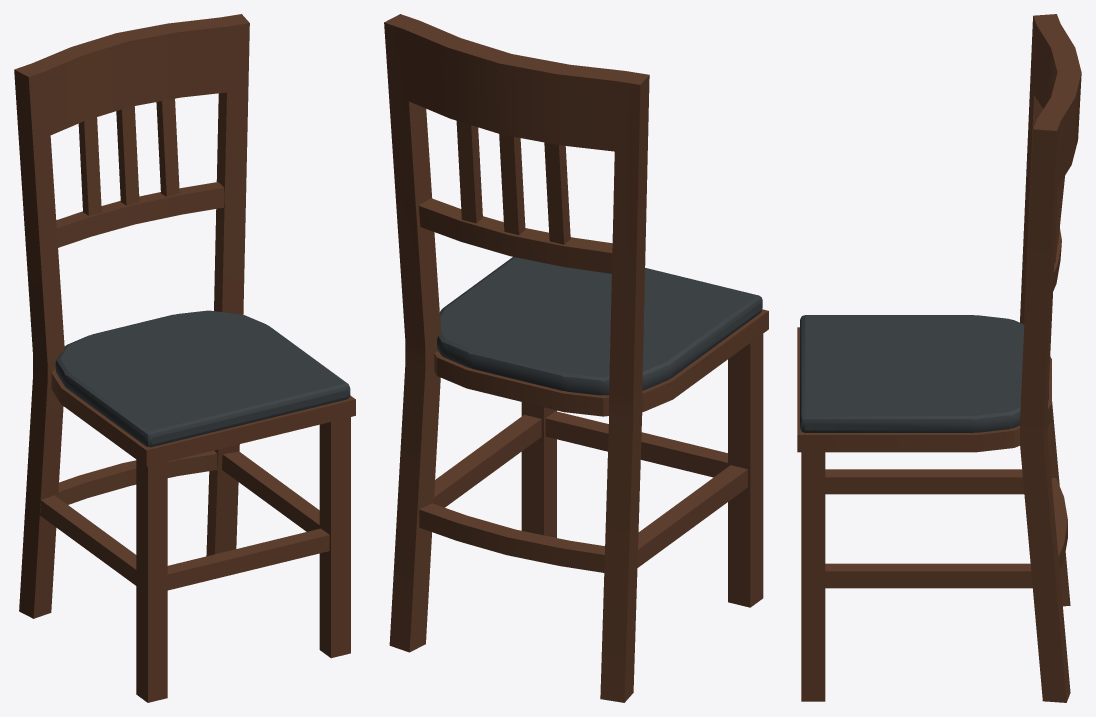
The model's file is Chair_02.fbx.
The picture shows the model from 3 angles, left to right: view 1: azimuth 30°, elevation 25°; view 2: azimuth 150°, elevation 25°; view 3: azimuth 270°, elevation 25°; orthographic projection. The views are drawn at different scales.
Visible parts, largest first — view 1: Chair_02; view 2: Chair_02; view 3: Chair_02.
Boxes of the visible parts, x1,y1,x2,y2 form: Chair_02: [14, 14, 355, 702]; Chair_02: [384, 14, 768, 702]; Chair_02: [797, 14, 1081, 702].
Size of the model in its own units: 43.51 by 100 by 44.67.
